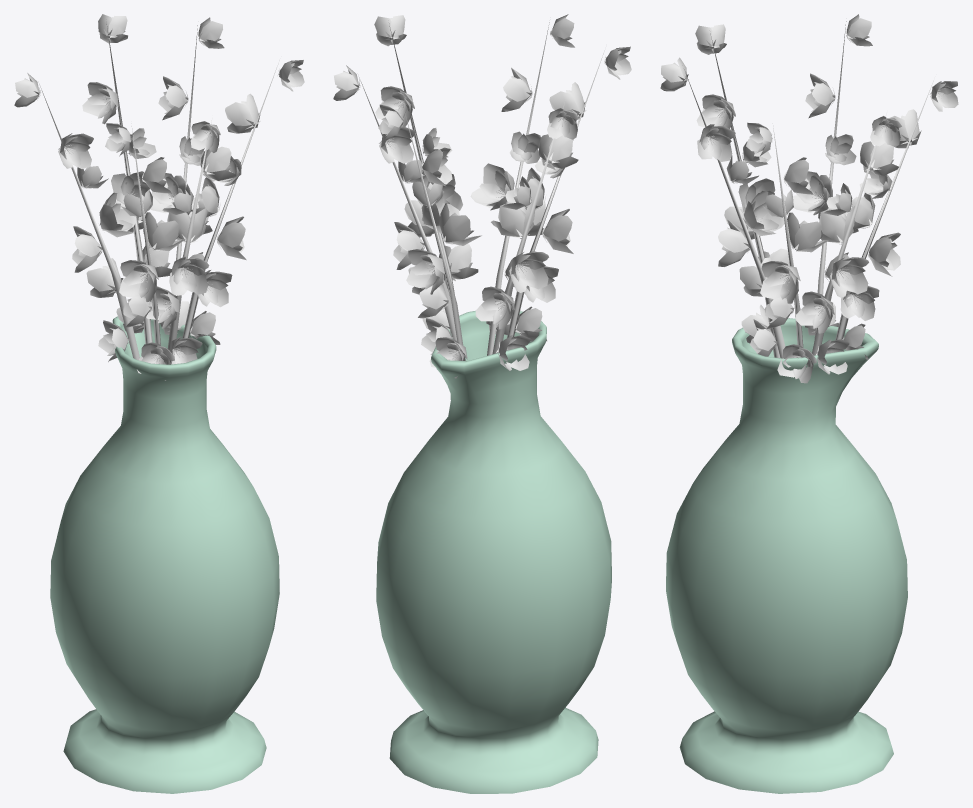
File: MemoryRoom_vase+flower.fbx
The picture shows the model from 3 angles, left to right: view 1: azimuth 30°, elevation 25°; view 2: azimuth 150°, elevation 25°; view 3: azimuth 270°, elevation 25°; orthographic projection. The views are drawn at different scales.
Visible parts, largest first — view 1: Circle, Cylinder.009, Cylinder.007, Cylinder.010, Cylinder.008, Cylinder.017, Cylinder.011; view 2: Circle, Cylinder.009, Cylinder.017, Cylinder.010, Cylinder.011, Cylinder.007, Cylinder.008; view 3: Circle, Cylinder.011, Cylinder.007, Cylinder.008, Cylinder.017, Cylinder.010, Cylinder.009.
Boxes of the visible parts, x1,y1,x2,y2 form: Circle: (50,316,279,793); Cylinder.009: (14,73,139,361); Cylinder.007: (146,118,236,364); Cylinder.010: (105,123,185,380); Cylinder.008: (182,60,304,344); Cylinder.017: (82,14,171,343); Cylinder.011: (150,17,224,334); Circle: (376,311,611,793); Cylinder.009: (475,106,579,370); Cylinder.017: (378,104,481,378); Cylinder.010: (507,46,631,341); Cylinder.011: (333,65,459,354); Cylinder.007: (470,14,574,355); Cylinder.008: (374,15,478,333); Circle: (666,318,907,793); Cylinder.011: (795,113,901,374); Cylinder.007: (660,57,785,358); Cylinder.008: (746,122,828,383); Cylinder.017: (835,80,958,359); Cylinder.010: (695,24,789,358); Cylinder.009: (793,14,872,338).
Bounding box in the file's own units: 132 × 352 × 139.
